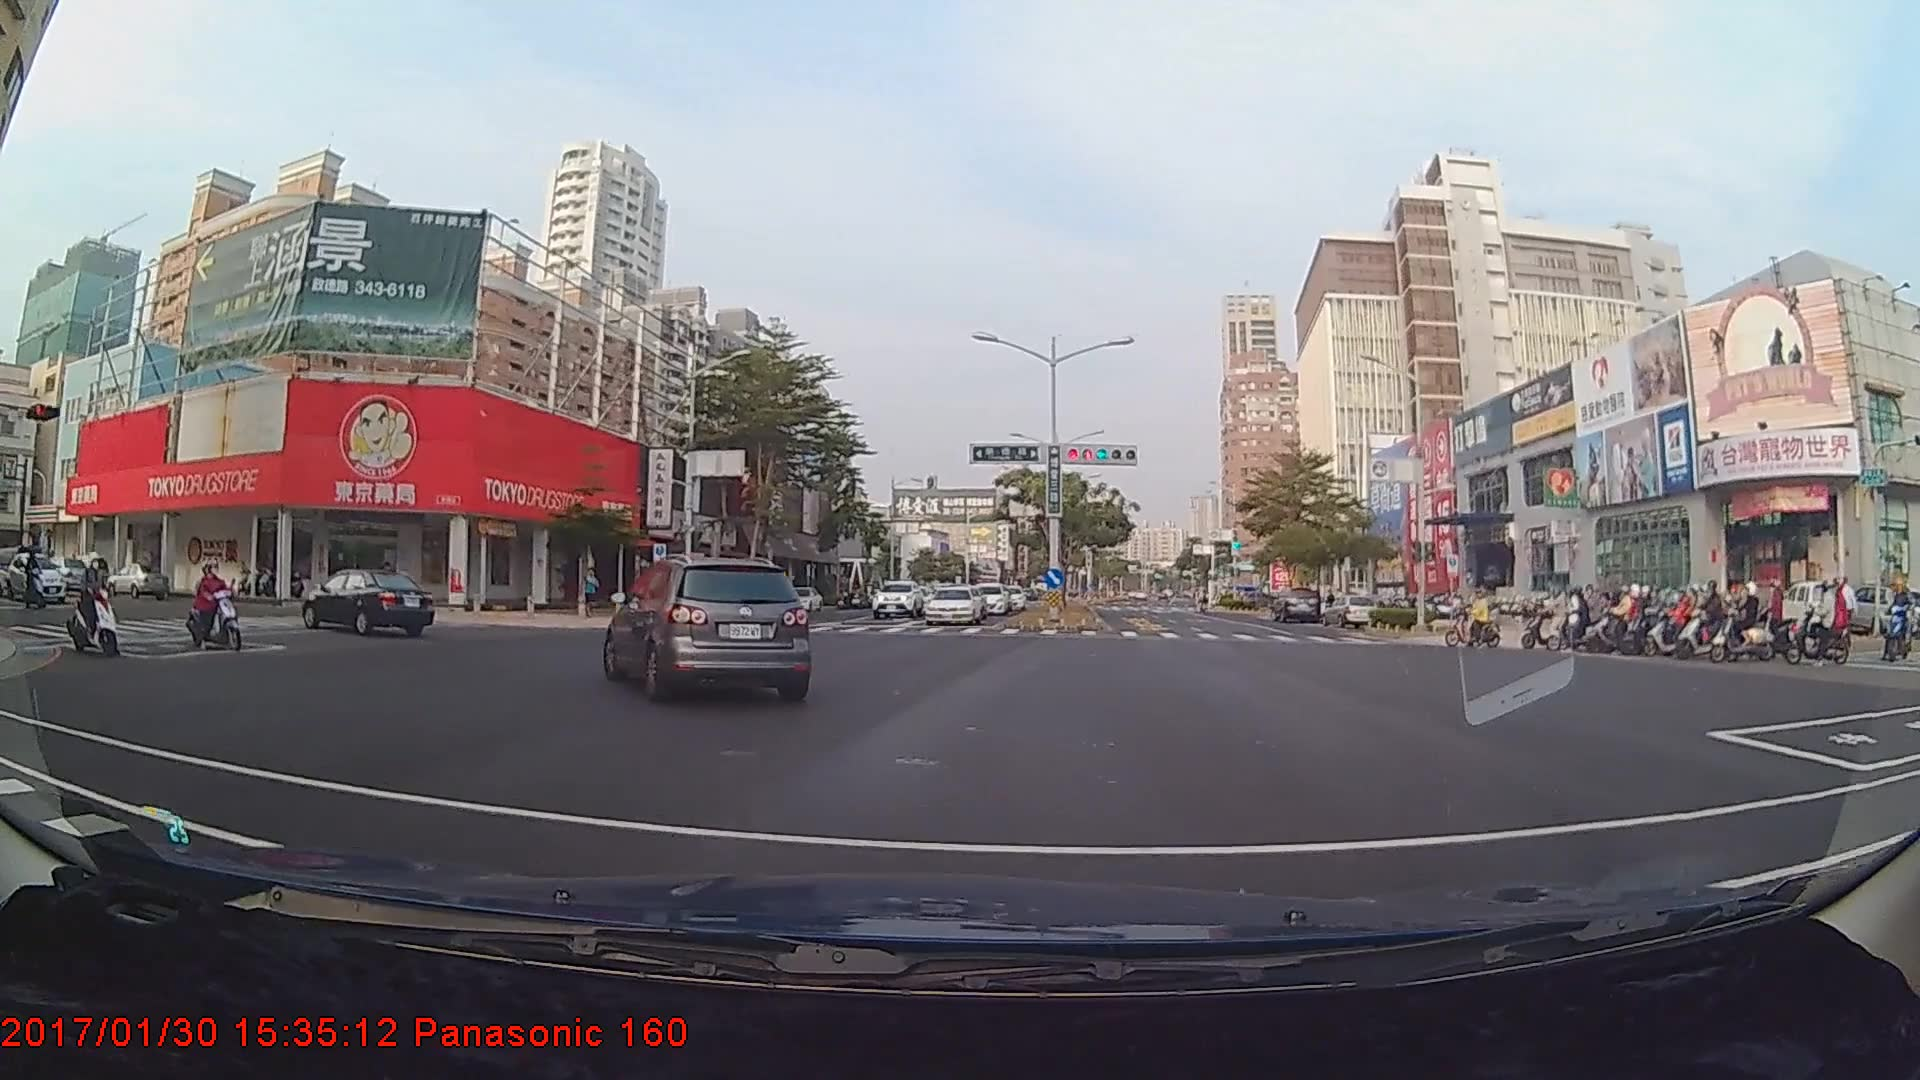rider: (1780, 578, 1850, 668), (64, 555, 125, 659), (183, 562, 246, 653), (1696, 584, 1766, 662), (1678, 585, 1739, 659), (1536, 594, 1609, 653), (1441, 585, 1503, 650), (1592, 586, 1648, 654), (1615, 590, 1661, 655)
vehicle: (601, 550, 812, 702), (301, 567, 435, 638), (5, 553, 65, 603), (922, 588, 983, 629), (39, 555, 99, 593), (869, 580, 924, 618), (1268, 585, 1319, 620), (968, 579, 1010, 615)
